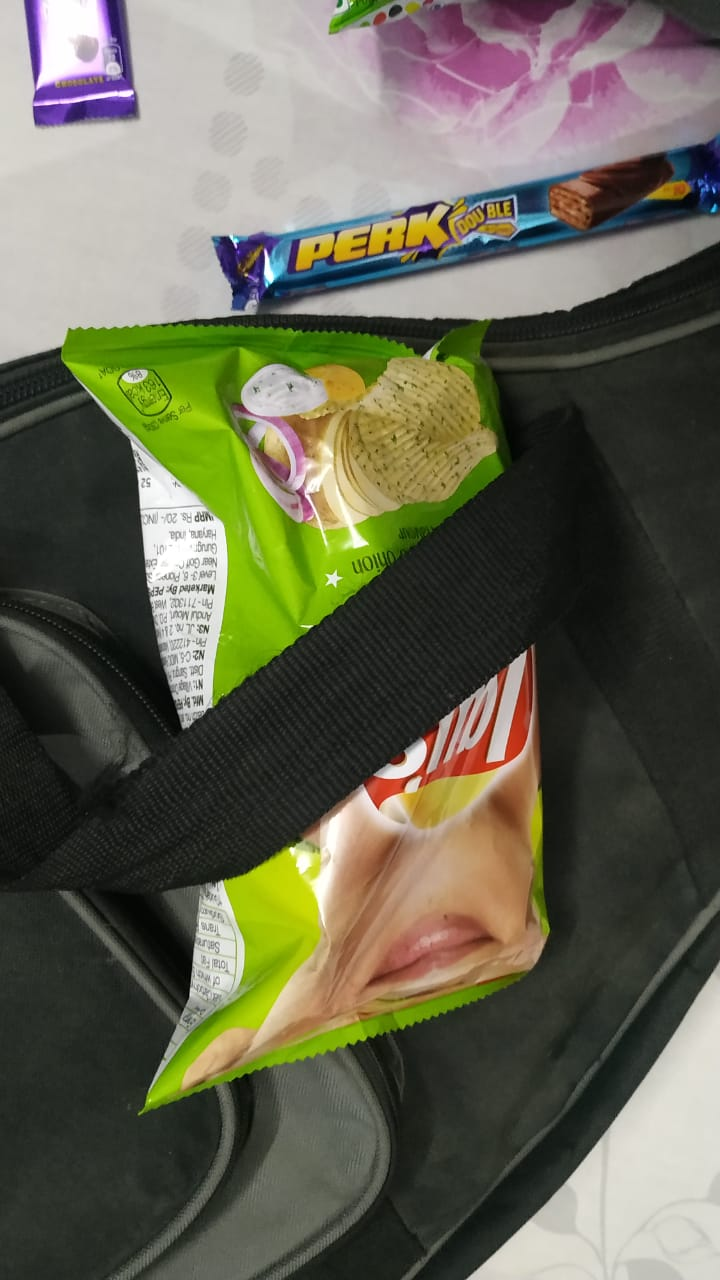lays chips: (48, 310, 584, 1114)
perk: (196, 106, 719, 316)
